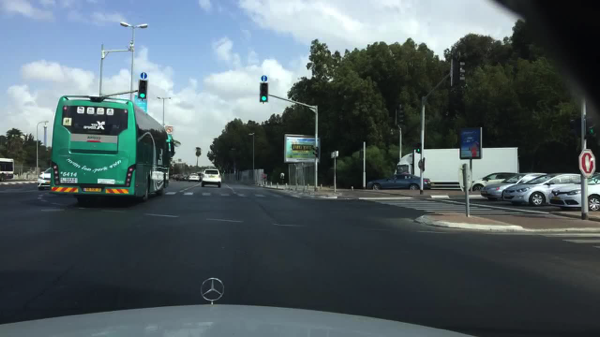bus: (49, 95, 175, 204), (1, 158, 15, 182)
car: (500, 172, 583, 206), (480, 172, 548, 201), (548, 173, 599, 210), (366, 172, 431, 191), (470, 172, 518, 191), (200, 169, 222, 188), (37, 167, 53, 191), (188, 173, 200, 183), (197, 172, 203, 183), (176, 175, 185, 182), (183, 175, 190, 182), (171, 174, 177, 180)
traffic light: (448, 58, 465, 87), (584, 116, 597, 139), (138, 80, 148, 100), (395, 106, 404, 127), (260, 83, 269, 103), (415, 143, 421, 154)
traffic sign: (283, 133, 320, 163), (458, 127, 482, 159), (577, 149, 596, 177), (164, 127, 173, 133)
truck: (393, 147, 520, 191)
